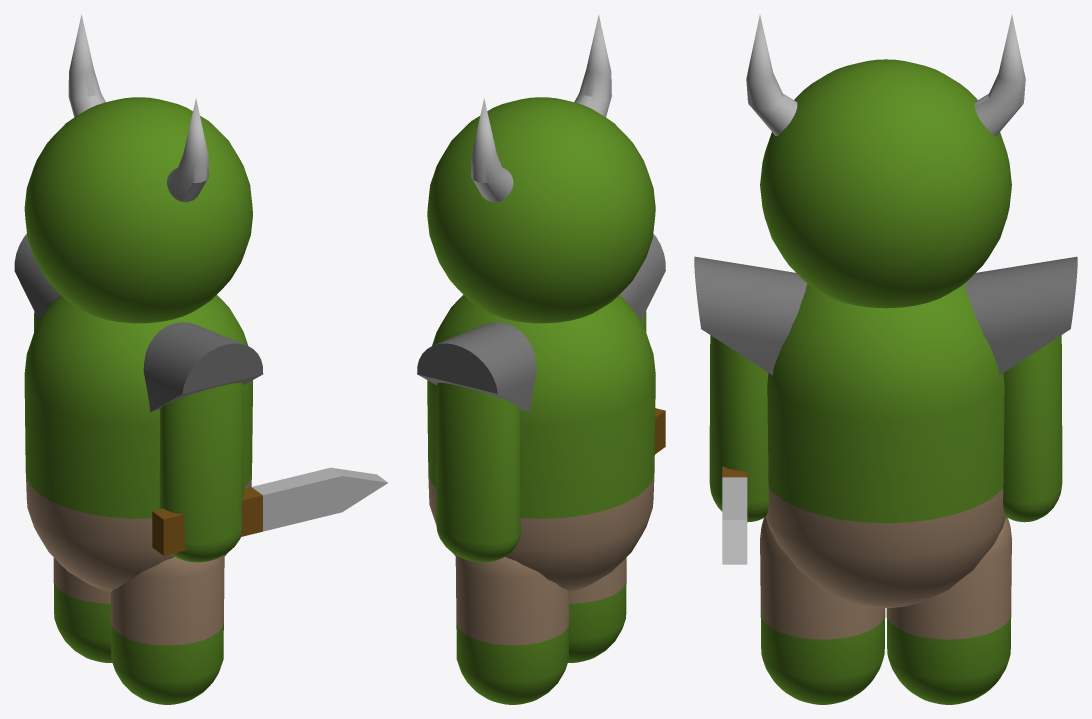
The model's file is Goblin.fbx.
3 renders of one model, left to right at view 1: azimuth 30°, elevation 25°; view 2: azimuth 150°, elevation 25°; view 3: azimuth 270°, elevation 25°, orthographic. The views are drawn at different scales.
Visible parts, largest first — view 1: Head, Body, Braç dret, Cama dreta, Espatlles, Banyes, Cama esq; view 2: Head, Body, Cama esq, Braç esq, Espatlles, Banyes, Cama dreta, Braç dret; view 3: Body, Head, Espatlles, Cama esq, Cama dreta, Braç dret, Braç esq, Banyes.
Boxes of the visible parts, x1,y1,x2,y2 form: Head: [24, 97, 252, 323]; Body: [24, 295, 252, 591]; Braç dret: [152, 382, 387, 562]; Cama dreta: [110, 555, 224, 704]; Espatlles: [14, 234, 263, 412]; Banyes: [68, 14, 209, 202]; Cama esq: [53, 557, 112, 662]; Head: [427, 97, 655, 323]; Body: [427, 295, 655, 591]; Cama esq: [455, 555, 569, 704]; Braç esq: [436, 382, 520, 562]; Espatlles: [417, 234, 665, 412]; Banyes: [471, 14, 611, 202]; Cama dreta: [568, 557, 626, 662]; Braç dret: [641, 311, 665, 454]; Body: [765, 283, 1006, 607]; Head: [760, 59, 1011, 308]; Espatlles: [694, 256, 1077, 375]; Cama esq: [886, 517, 1011, 704]; Cama dreta: [760, 517, 885, 704]; Braç dret: [709, 335, 768, 564]; Braç esq: [1003, 335, 1062, 522]; Banyes: [746, 15, 1025, 135].
Bounding box in the file's own units: 2.77 × 6 × 3.04.
